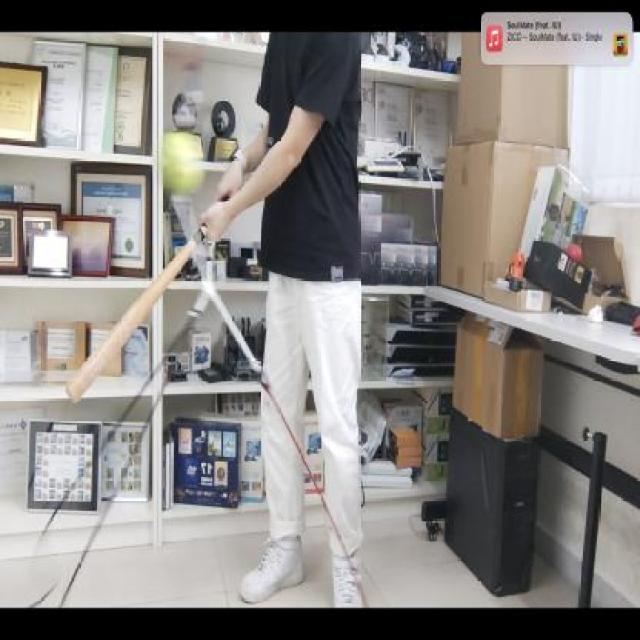baseball: (161, 130, 205, 195)
